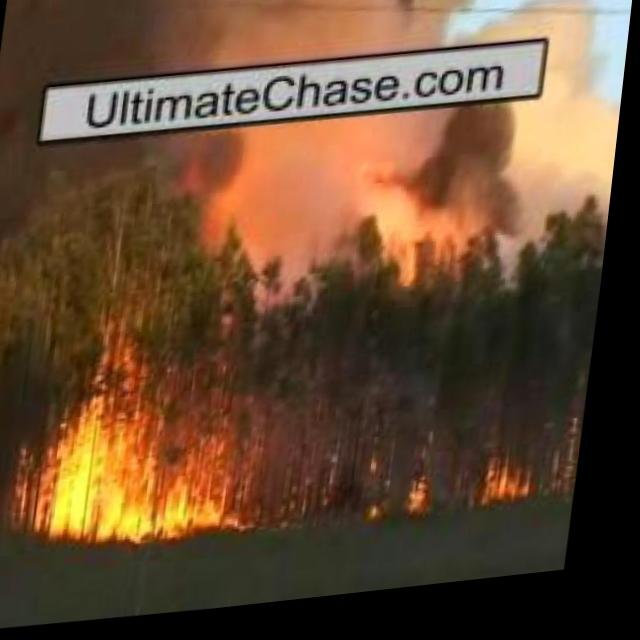Fire: (63, 391, 263, 548), (488, 465, 544, 522), (413, 482, 444, 527)
